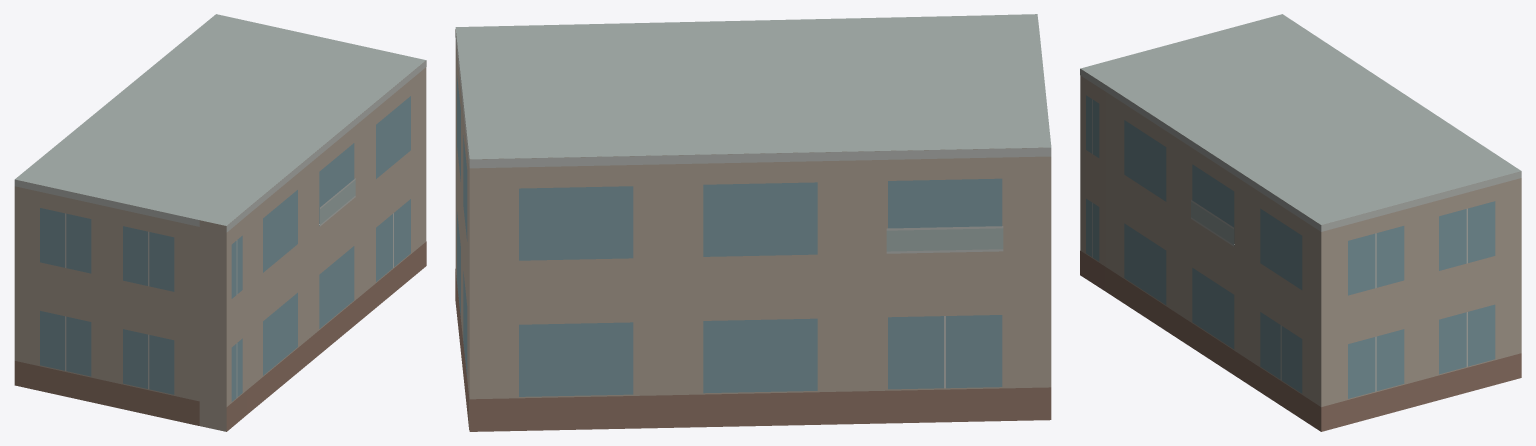
Rendered from survey-upis-32619356.glb.
The picture shows the model from 3 angles, left to right: view 1: azimuth 30°, elevation 25°; view 2: azimuth 150°, elevation 25°; view 3: azimuth 270°, elevation 25°; orthographic projection. The views are drawn at different scales.
Visible parts, largest first — view 1: survey-upis-32619356.tmp; view 2: survey-upis-32619356.tmp; view 3: survey-upis-32619356.tmp.
Part boxes in pixels (left/top/right/bottom): survey-upis-32619356.tmp: left=14, top=14, right=426, bottom=431; survey-upis-32619356.tmp: left=455, top=14, right=1051, bottom=431; survey-upis-32619356.tmp: left=1080, top=14, right=1521, bottom=431.
Bounding box in the file's own units: 16.22 × 7.4 × 14.33.
